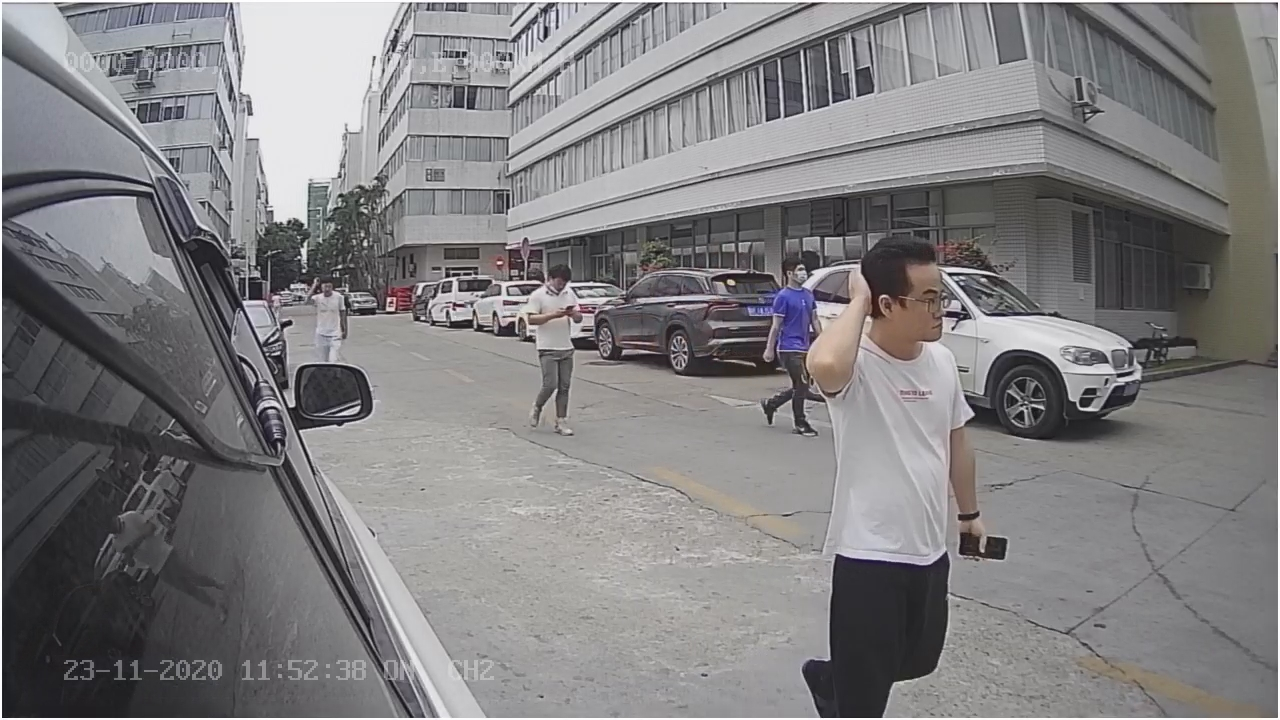person: (822, 248, 976, 695)
